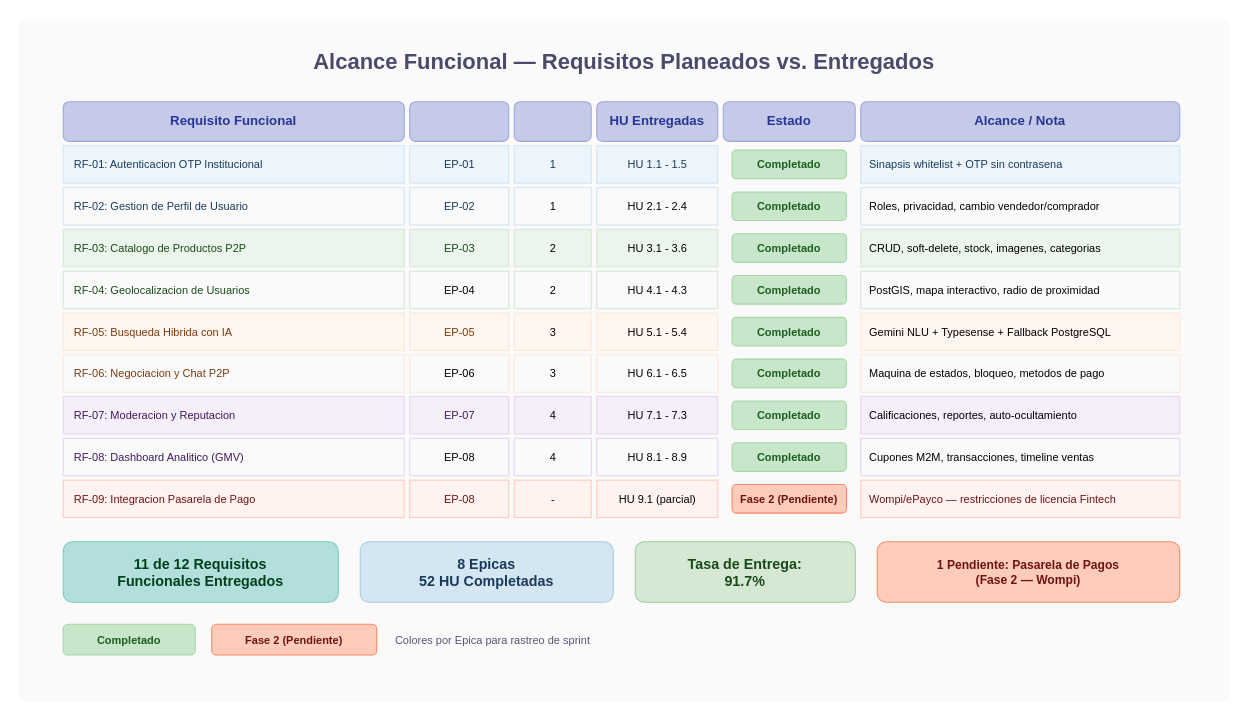
Some shapes in this 1247 by 719 pixel diagram are drawn without their labels. Here are the shapes that lost their labels. From the top down, the centre of each, then its label:
At [459,121]: "Epica".
At [552,121]: "Sprint".
